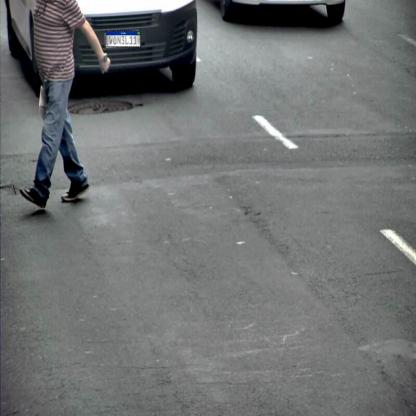PlacaM: (105, 31, 141, 47)
